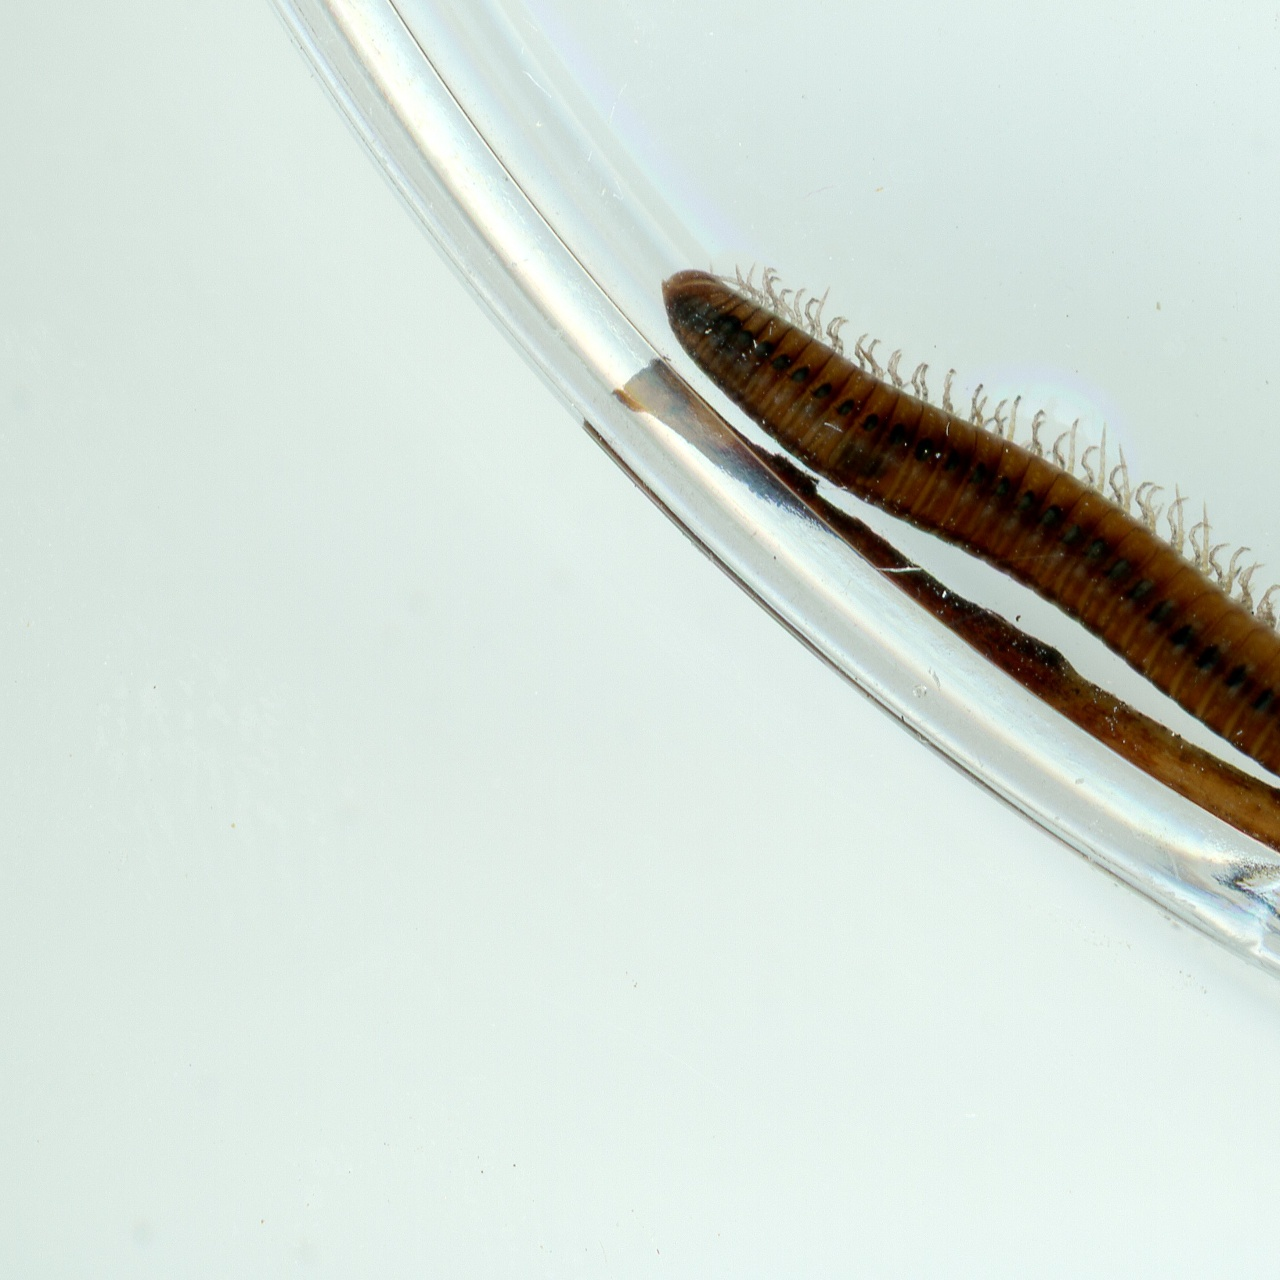arthropod: (519, 97, 1280, 1121)
